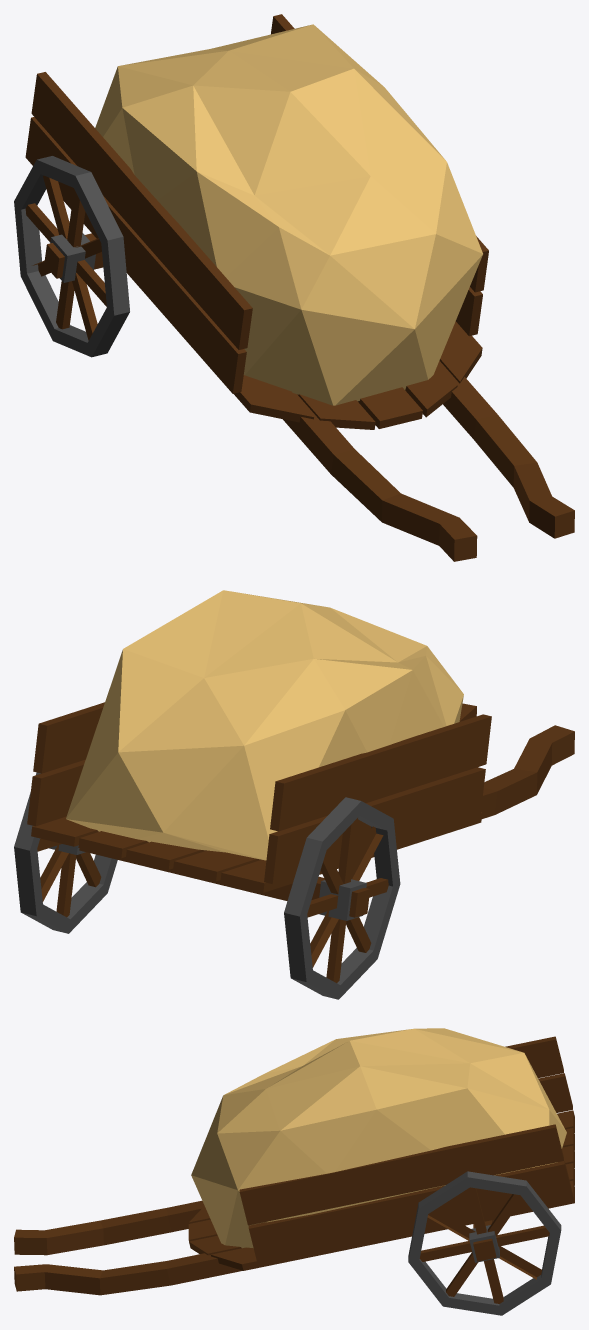
The model's file is TradingWaggon_Hay.fbx.
3 renders of one model, top to bottom at view 1: azimuth 30°, elevation 25°; view 2: azimuth 150°, elevation 25°; view 3: azimuth 270°, elevation 25°, orthographic. The views are drawn at different scales.
Parts seen in each view (by area): view 1: Cube.001; view 2: Cube.001; view 3: Cube.001.
Boxes of the visible parts, <box> form: Cube.001: <box>14,14,574,561</box>; Cube.001: <box>14,590,574,999</box>; Cube.001: <box>14,1028,574,1315</box>.
Size of the model in its own units: 171 by 157 by 352.
